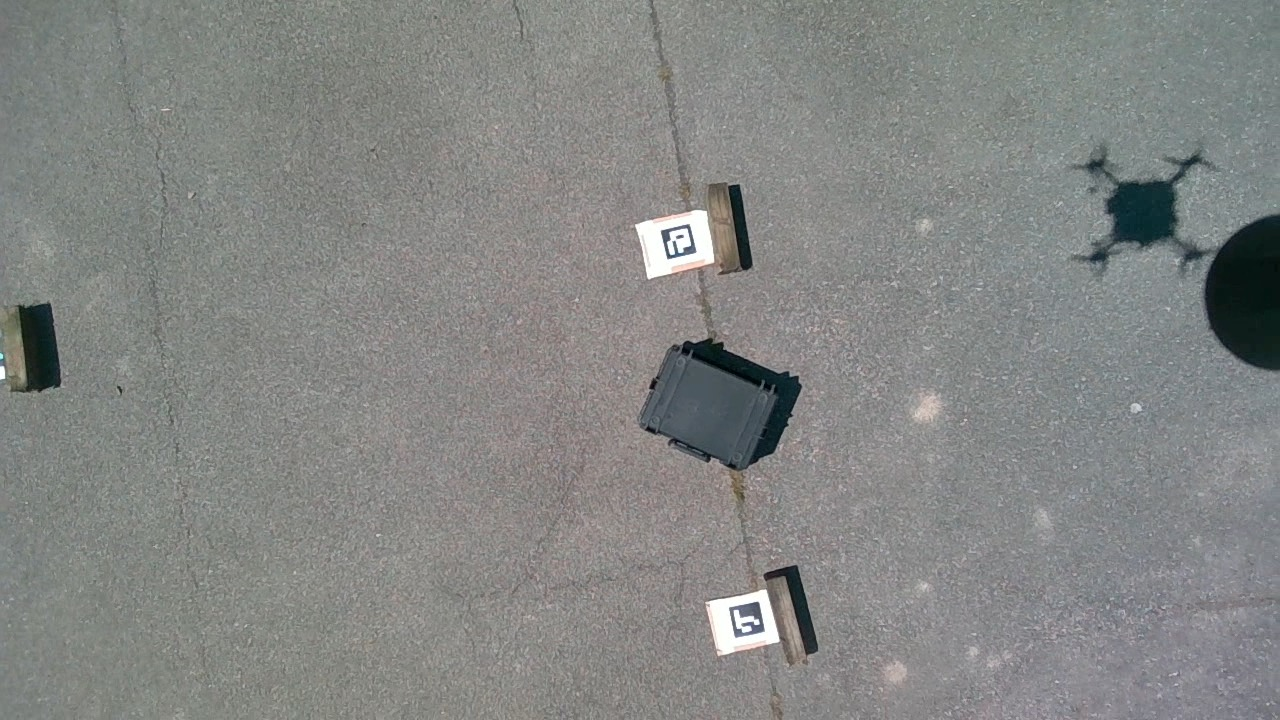rako: (637, 340, 799, 470)
